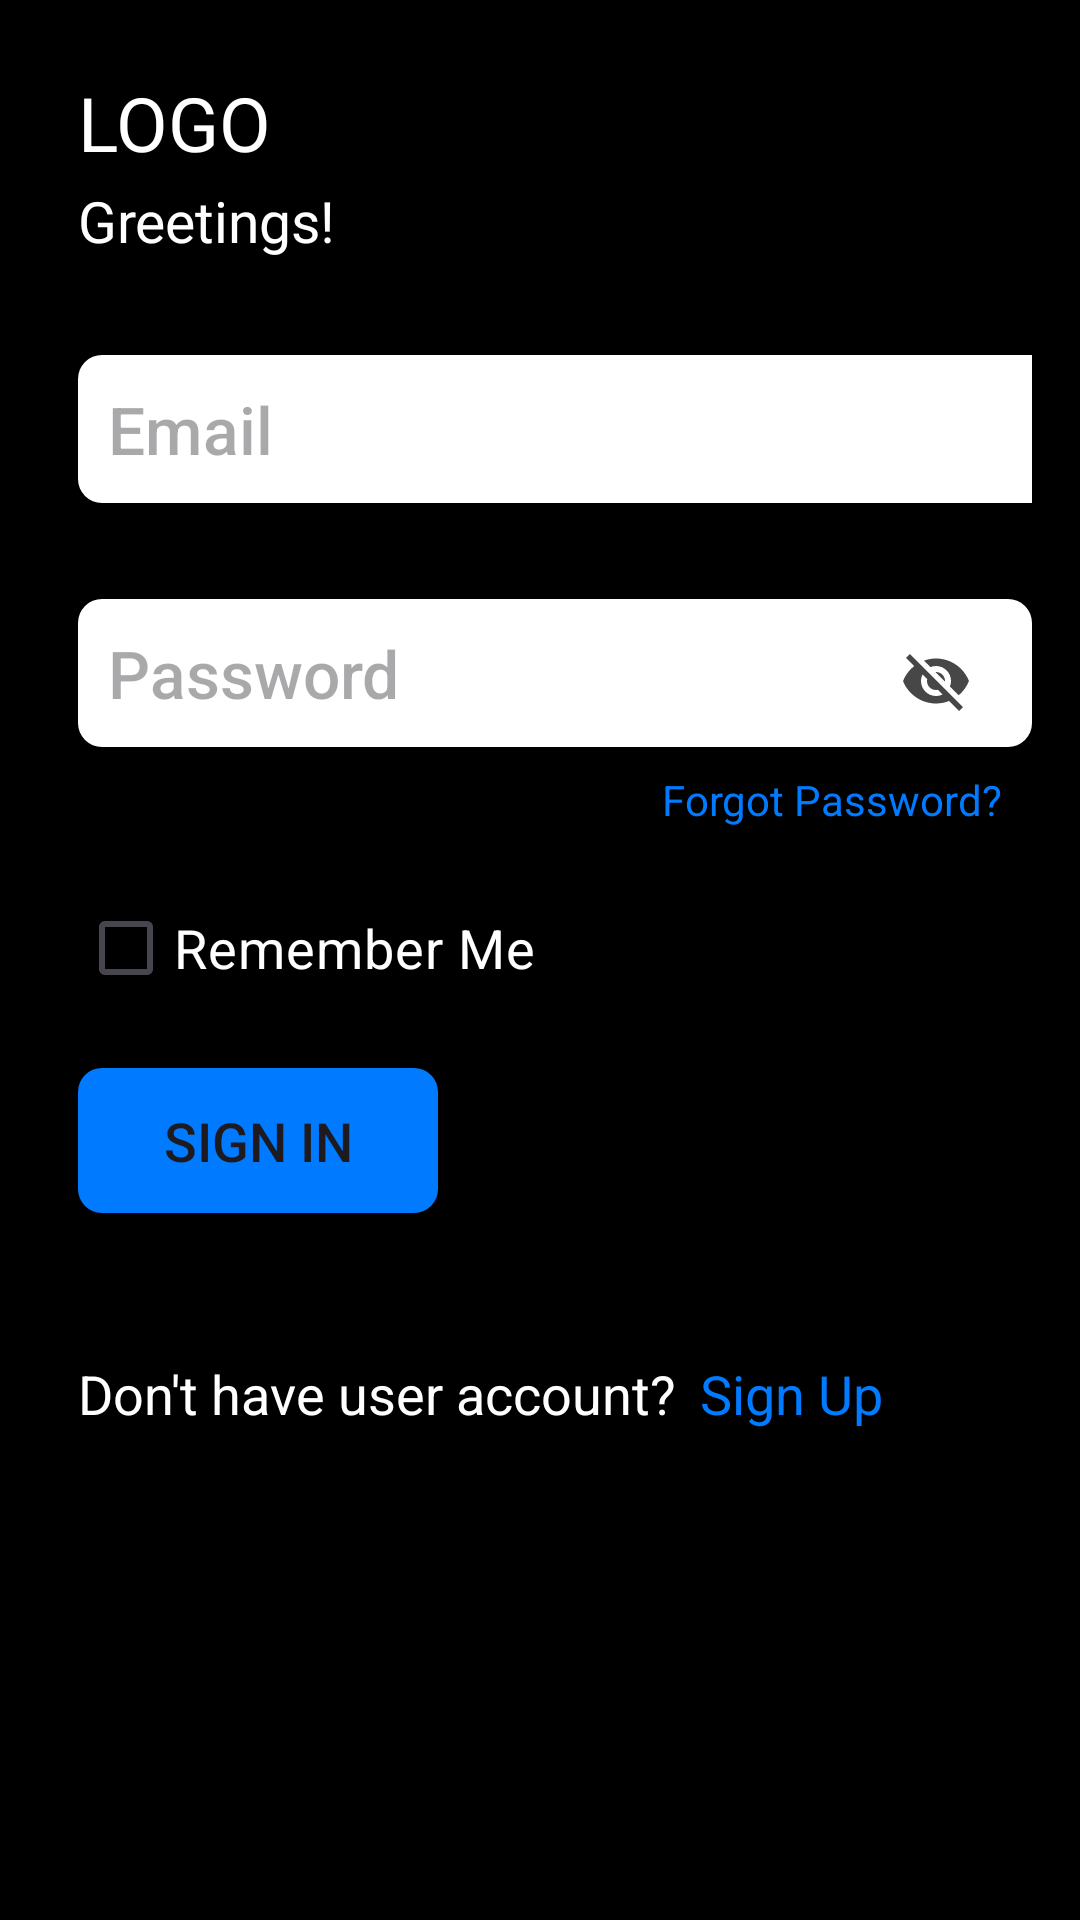

Named icons in this screenshot (1080 x 1920) and their centers, point (x, y):
visibility off: point (936, 682)
